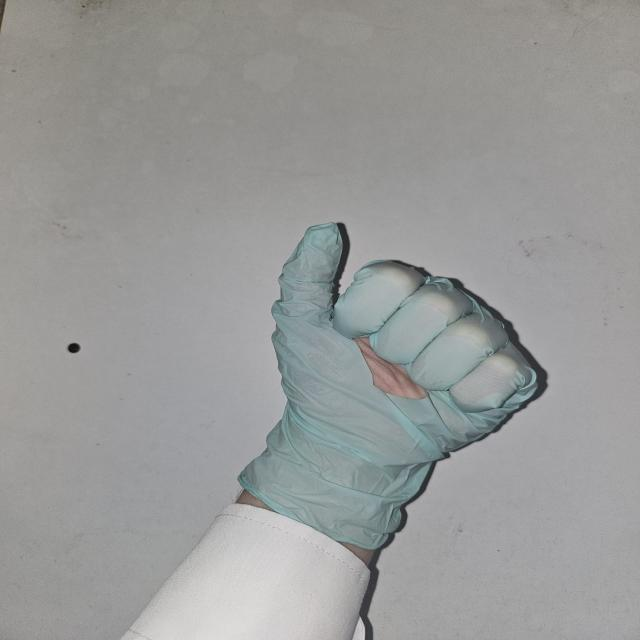gloves_damaged: (236, 219, 548, 543)
